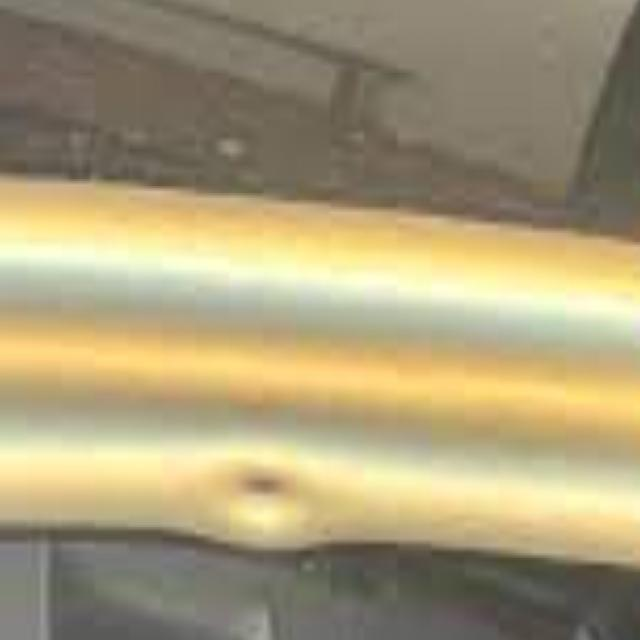dents: (224, 451, 321, 537)
